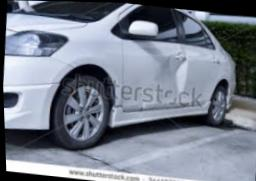Door: (122, 41, 190, 109)
